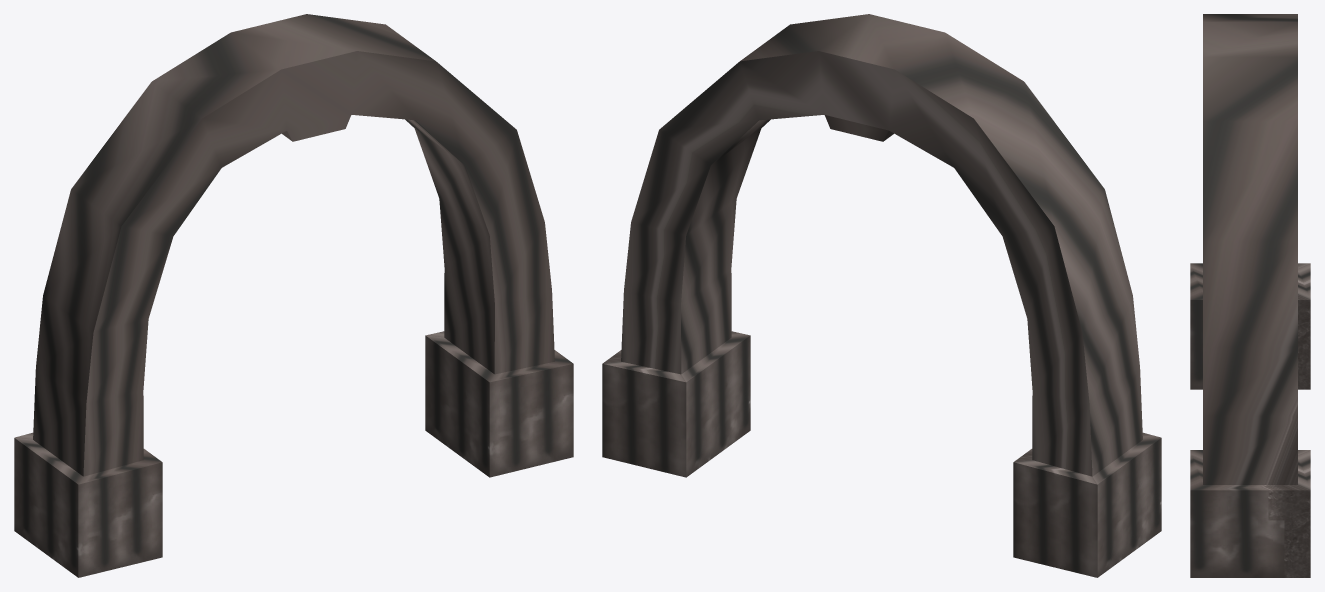
Rendered from arch.fbx.
3 renders of one model, left to right at view 1: azimuth 30°, elevation 25°; view 2: azimuth 150°, elevation 25°; view 3: azimuth 270°, elevation 25°, orthographic. The views are drawn at different scales.
Parts seen in each view (by area): view 1: pCube15; view 2: pCube15; view 3: pCube15.
Part boxes in pixels (x1,y1,x2,y2): pCube15: (14, 14, 573, 577); pCube15: (602, 14, 1161, 577); pCube15: (1190, 14, 1310, 577).
Bounding box in the file's own units: 49.27 × 43 × 11.06.
